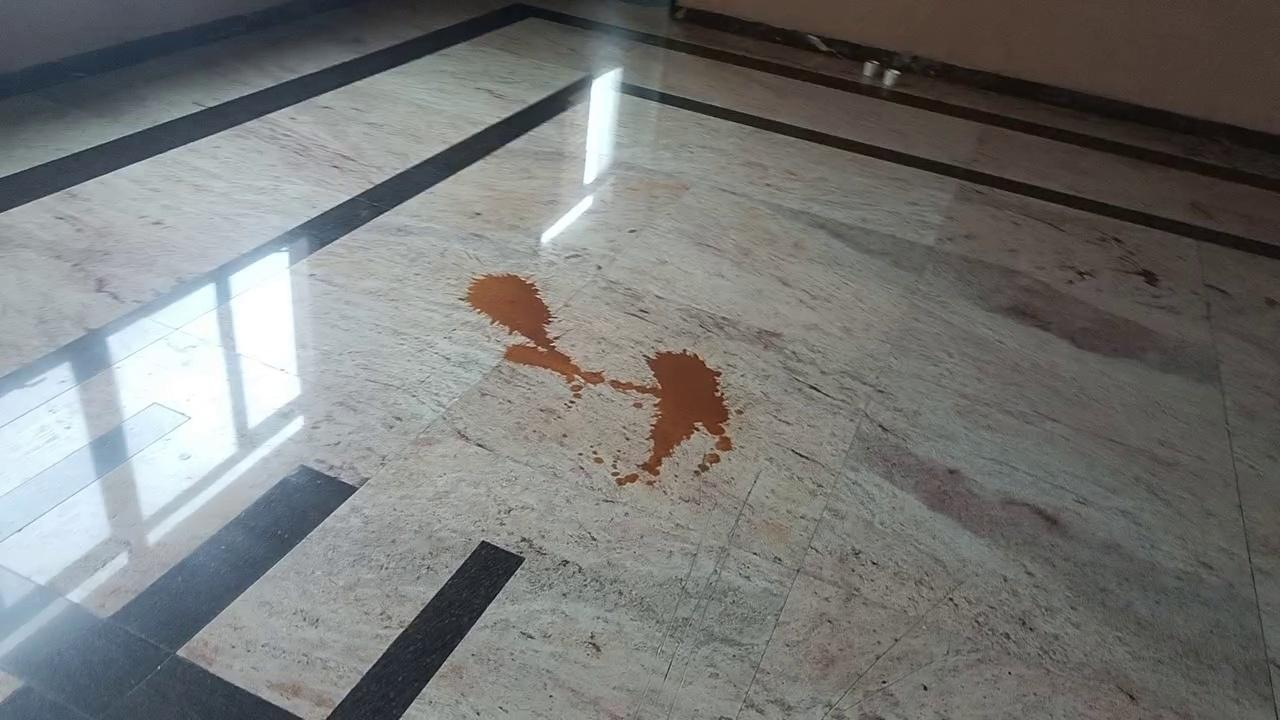dirty_floor: (466, 271, 736, 491)
